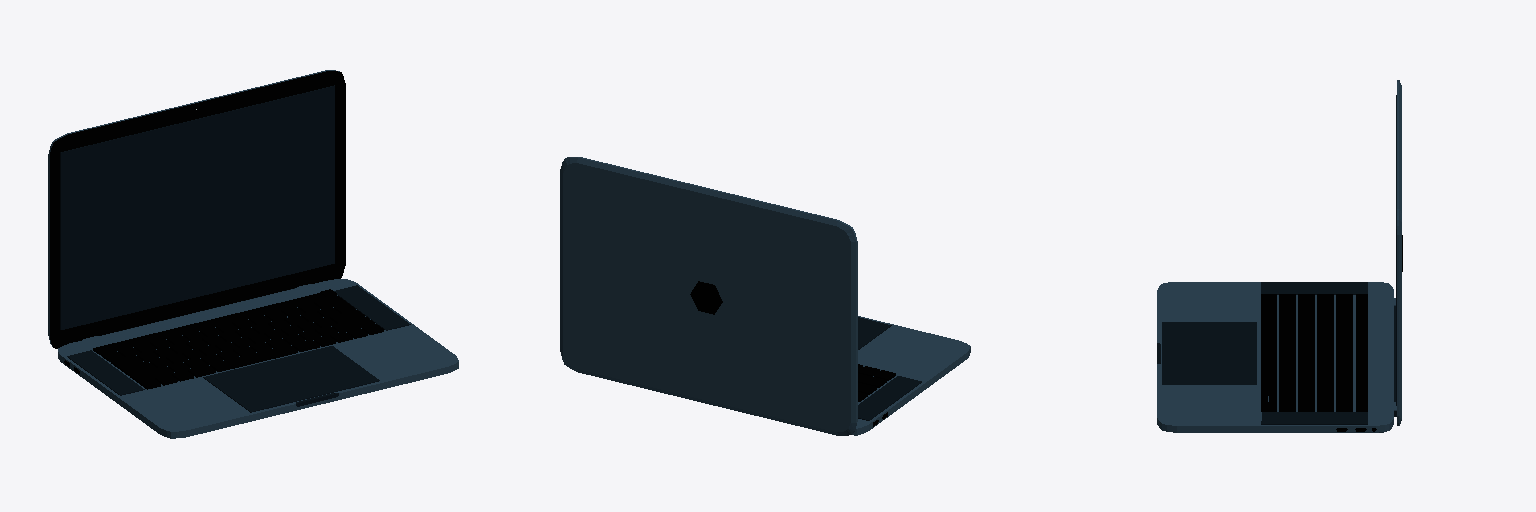
3 renders of one model, left to right at view 1: azimuth 30°, elevation 25°; view 2: azimuth 150°, elevation 25°; view 3: azimuth 270°, elevation 25°, orthographic.
Parts seen in each view (by area): view 1: group[number redacted], group[number redacted]; view 2: group[number redacted], group[number redacted]; view 3: group[number redacted], group[number redacted].
Part boxes in pixels (left/top/right/bottom): group[number redacted]: left=48, top=70, right=345, bottom=348; group[number redacted]: left=58, top=279, right=458, bottom=438; group[number redacted]: left=560, top=157, right=857, bottom=435; group[number redacted]: left=852, top=316, right=970, bottom=435; group[number redacted]: left=1157, top=282, right=1393, bottom=432; group[number redacted]: left=1394, top=80, right=1402, bottom=425.
Bounding box in the file's own units: 2.72 × 1.93 × 1.95.